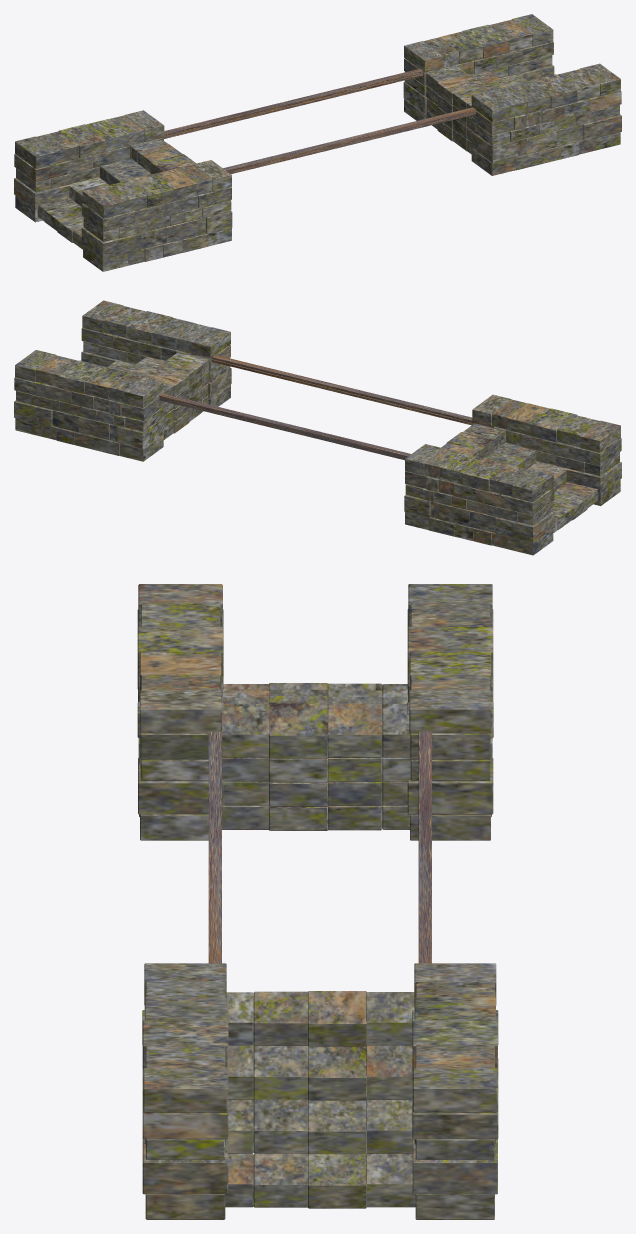
The model's file is LEVEL2bridge.fbx.
3 renders of one model, top to bottom at view 1: azimuth 30°, elevation 25°; view 2: azimuth 150°, elevation 25°; view 3: azimuth 270°, elevation 25°, orthographic. The views are drawn at different scales.
Parts seen in each view (by area): view 1: Wall.032; view 2: Wall.032; view 3: Wall.032.
Boxes of the visible parts, x1,y1,x2,y2 form: Wall.032: (14,14,621,271); Wall.032: (14,300,621,555); Wall.032: (137,584,498,1219).
Size of the model in its own units: 3245 by 395 by 978.
